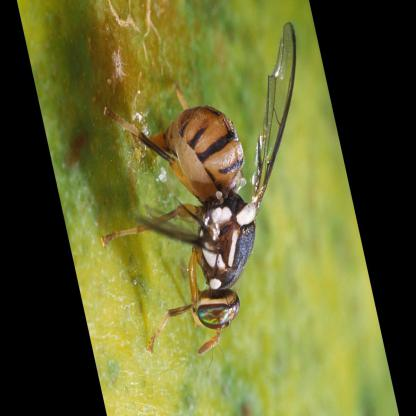fruit fly: (103, 24, 297, 359)
